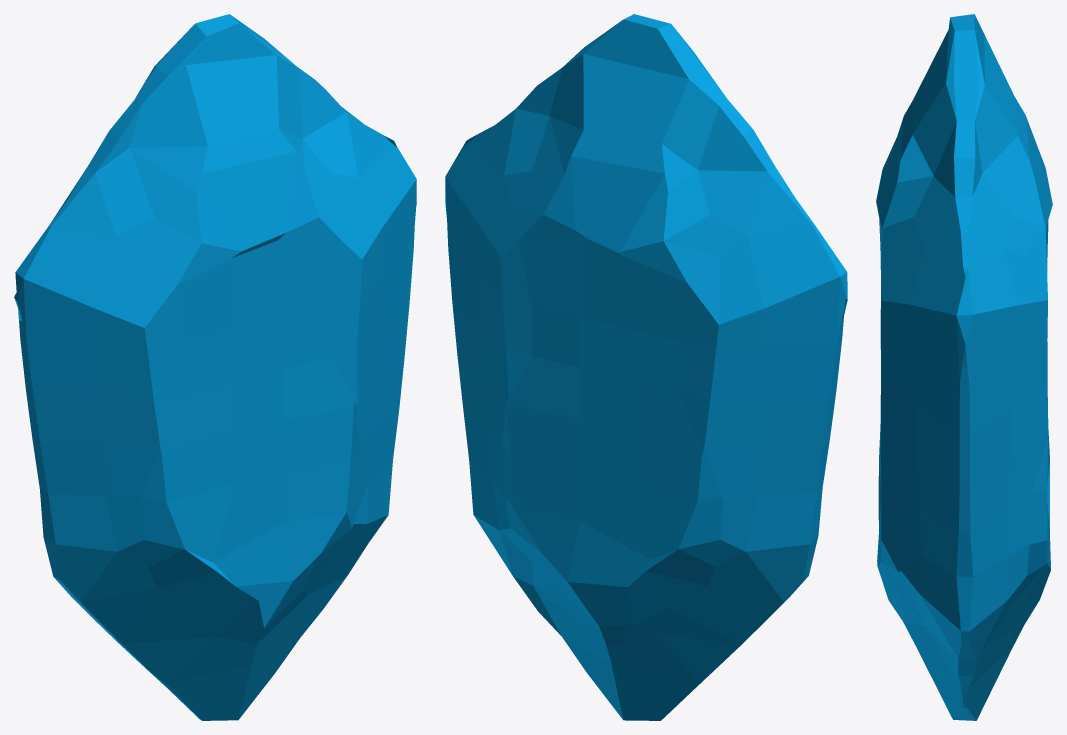
The model's file is crystal_3.glb.
3 renders of one model, left to right at view 1: azimuth 30°, elevation 25°; view 2: azimuth 150°, elevation 25°; view 3: azimuth 270°, elevation 25°, orthographic.
Visible parts, largest first — view 1: crystal_3; view 2: crystal_3; view 3: crystal_3.
Part boxes in pixels (box(x1,y1,x2,y2)): crystal_3: box(14, 14, 416, 720); crystal_3: box(445, 14, 847, 720); crystal_3: box(876, 14, 1052, 720).
Bounding box in the file's own units: 0.3042 × 0.5064 × 0.1173.
